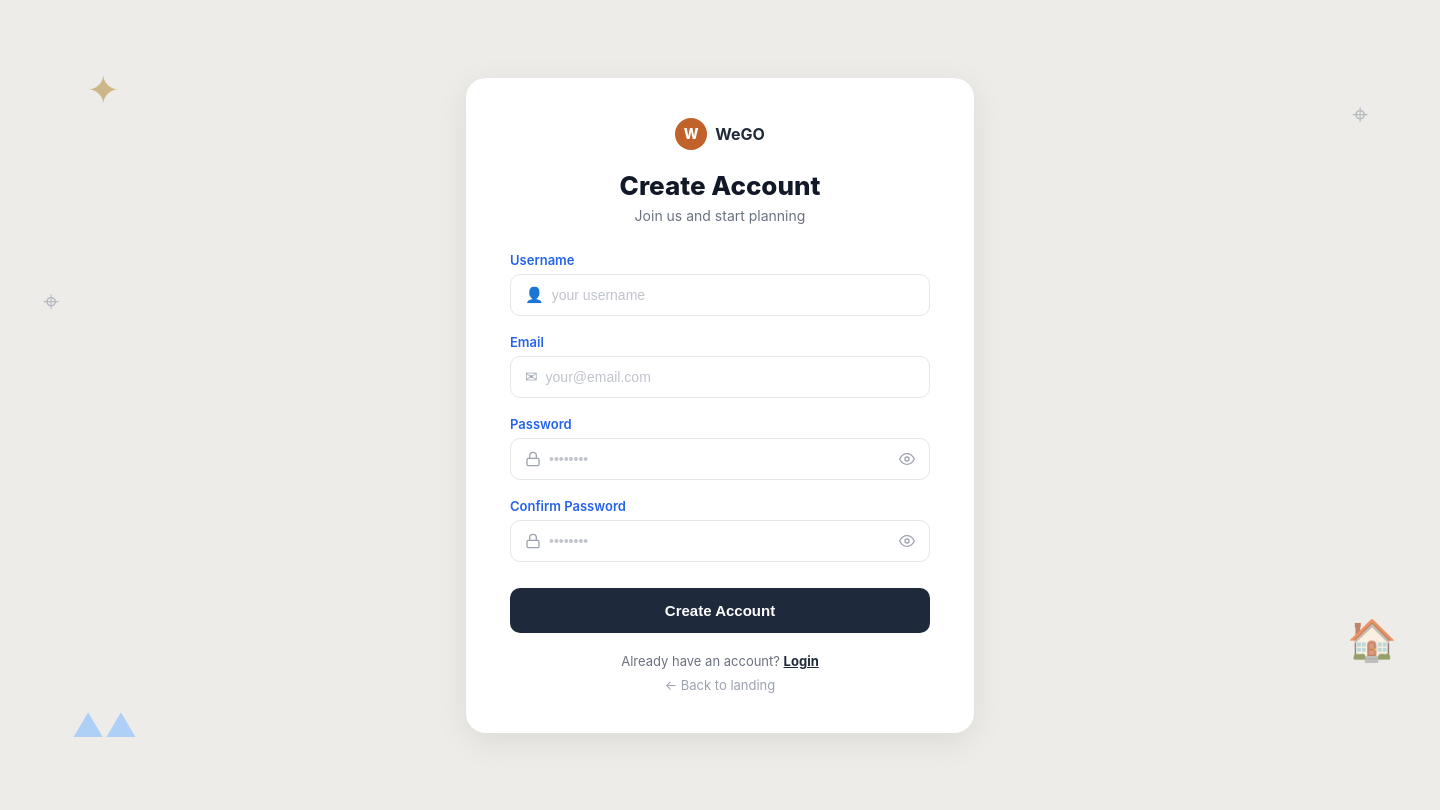
Test case: RegisterPage — duplicate account error › shows duplicate account message on 409 response
Step 1. Type "testuser" into the field labelled "Username" → point(733, 294), box [552, 274, 915, 314]
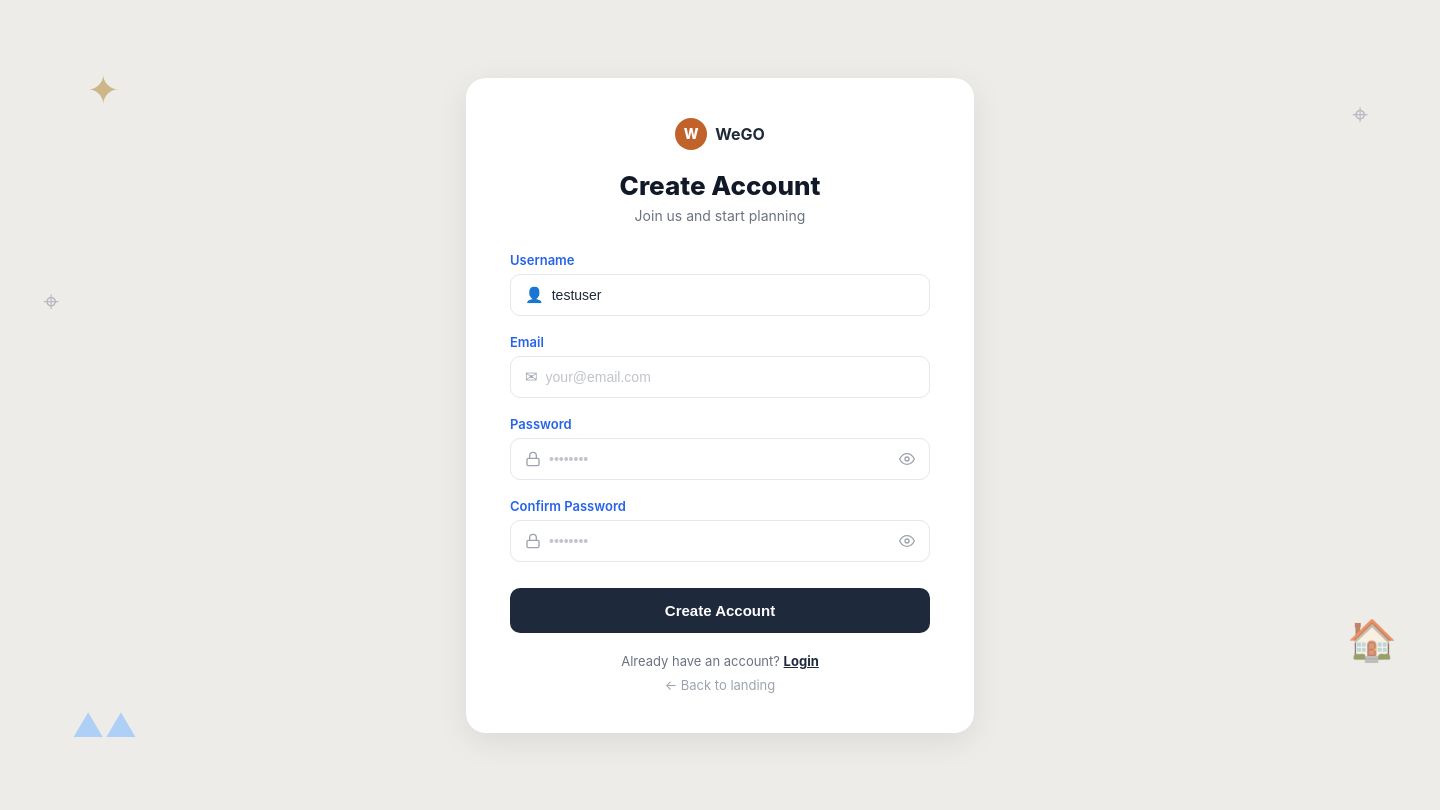
Step 2. Type "test@example.com" into the field labelled "Email" → point(730, 376), box [546, 356, 915, 396]
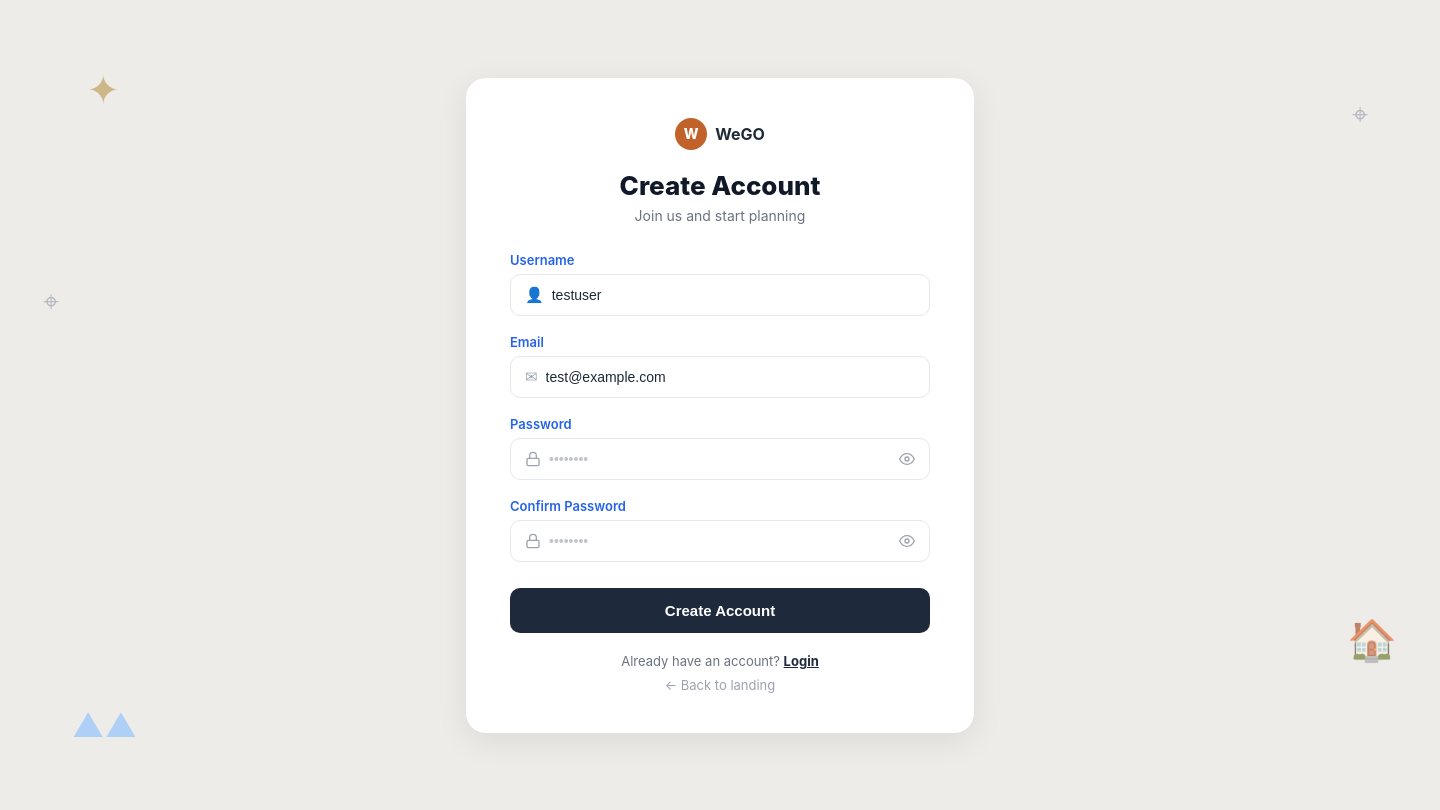
Step 3. Type "secret123" into the password field labelled "Password" → point(720, 458), box [549, 438, 891, 478]
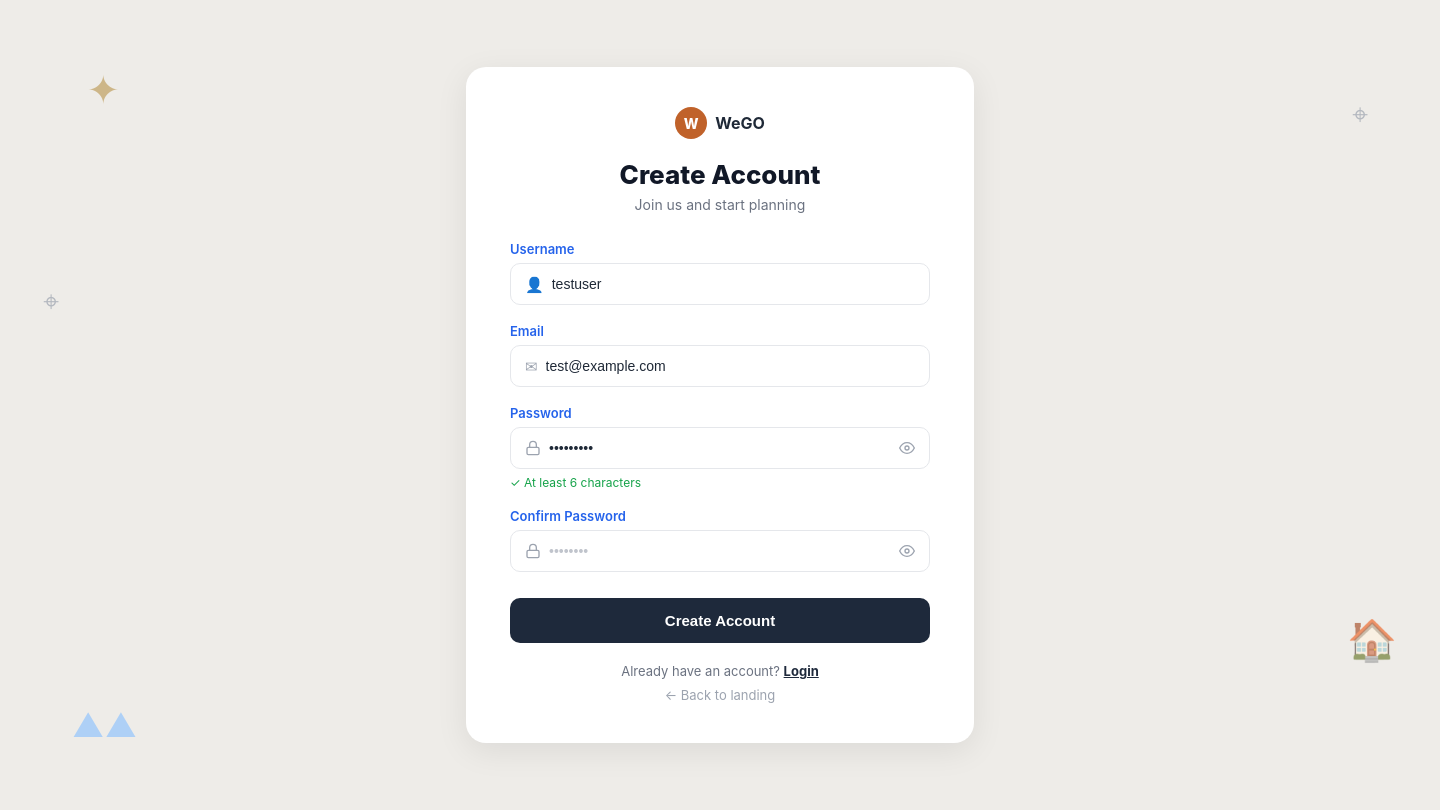
Step 4. Type "secret123" into the password field labelled "Confirm Password" → point(720, 551), box [549, 531, 891, 571]
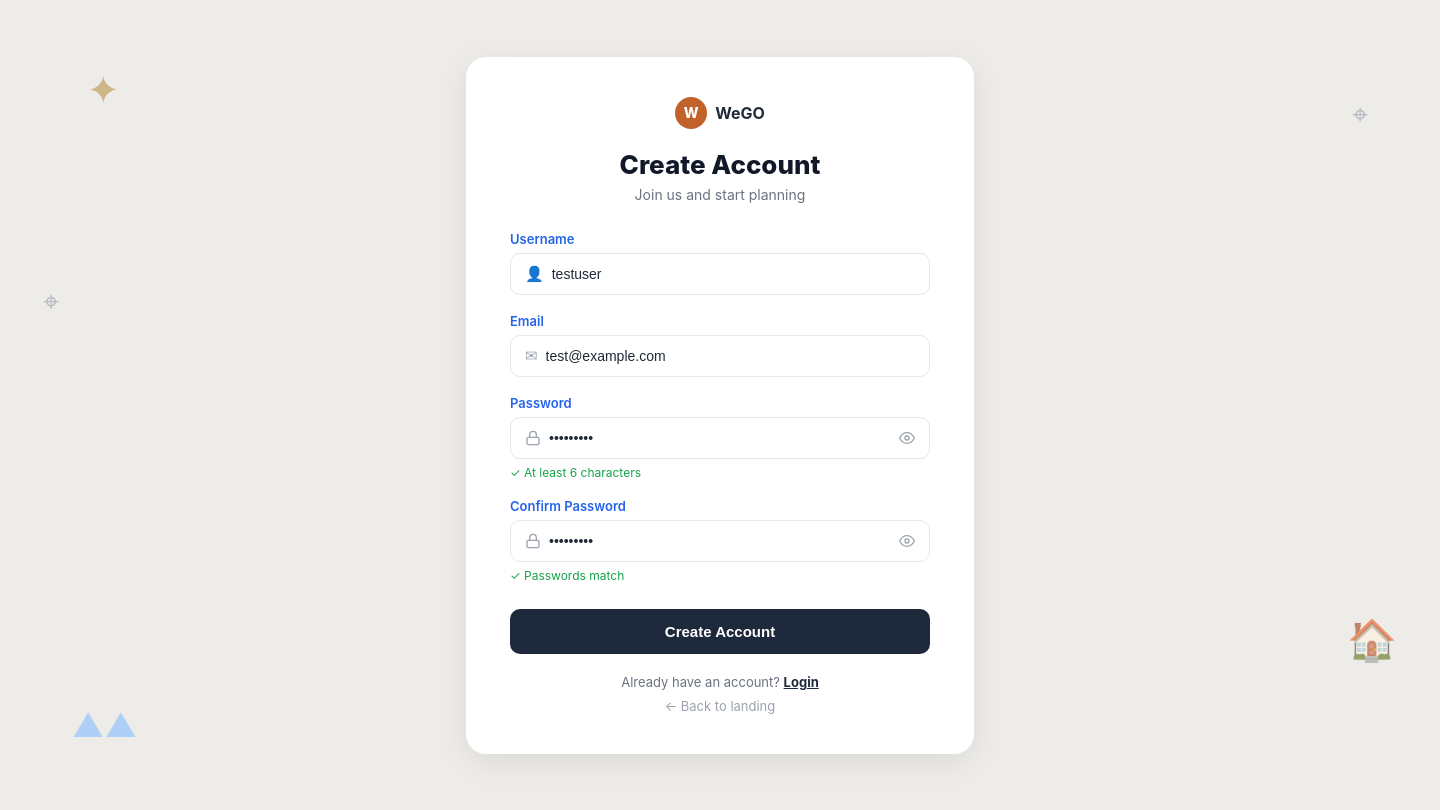
Step 5. Click the button "Create Account" → point(720, 631), box [510, 608, 930, 654]
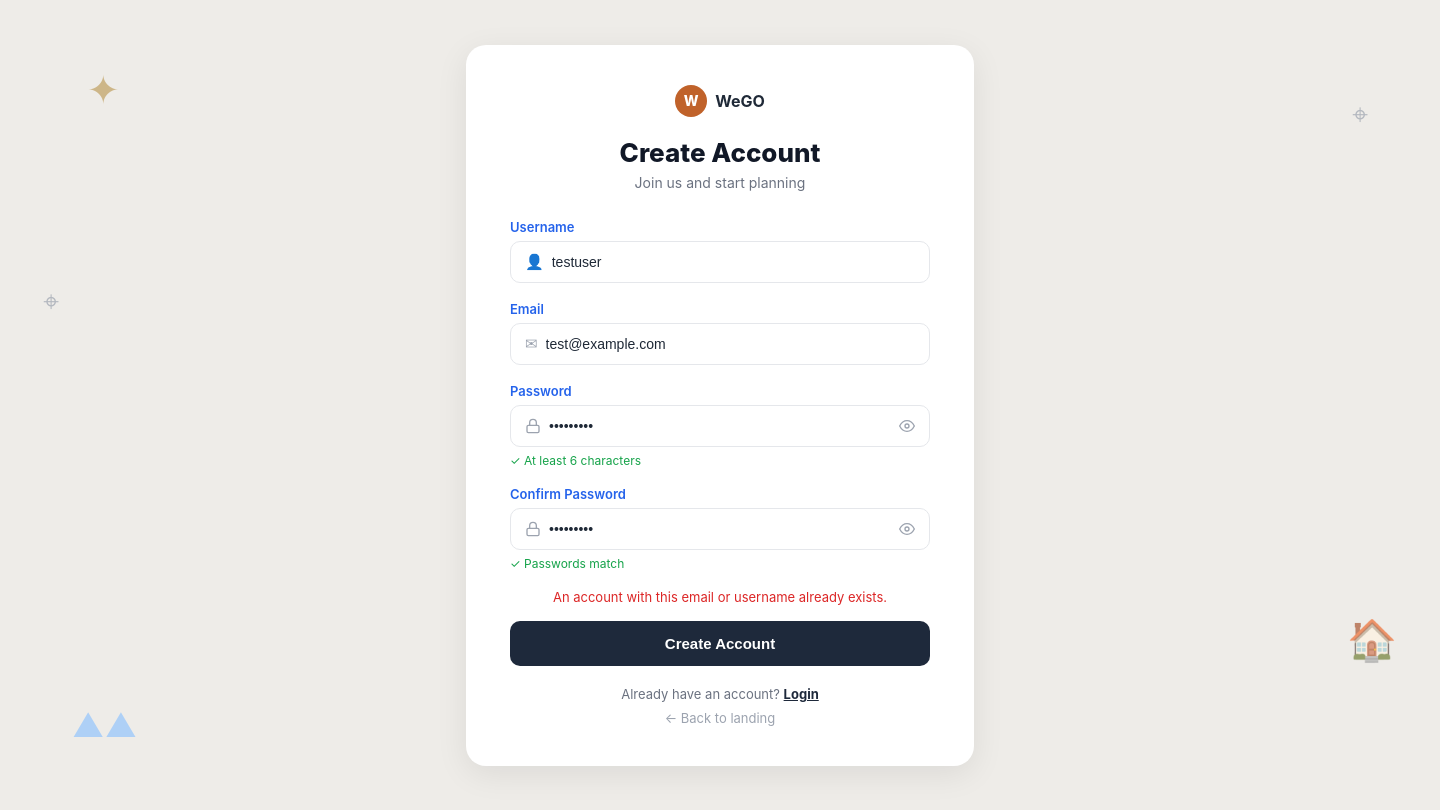
Expected: the text "An account with this email or username already exists." is shown, [553, 588, 887, 604]
